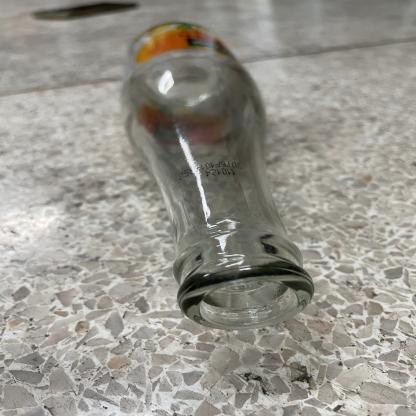Can: (95, 14, 342, 334)
